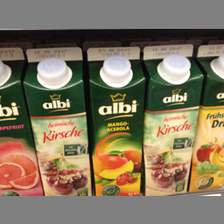juice: (22, 47, 93, 195), (141, 45, 203, 196), (87, 47, 146, 196)
